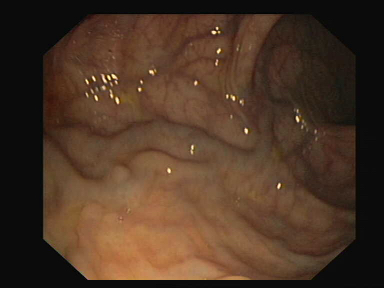polyp: (131, 147, 174, 173), (107, 161, 134, 185)
